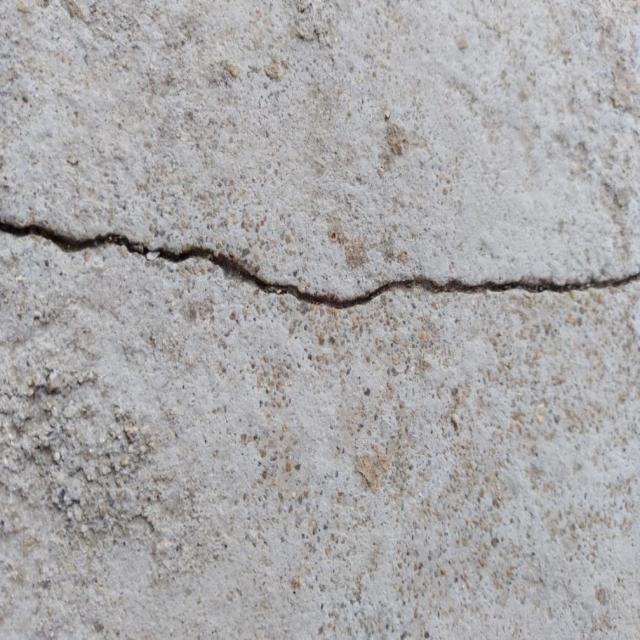horizontal crack: (0, 217, 639, 309)
